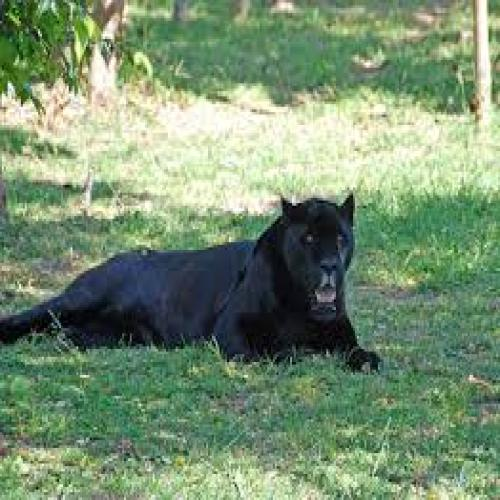panther-endangered: (0, 189, 364, 362)
